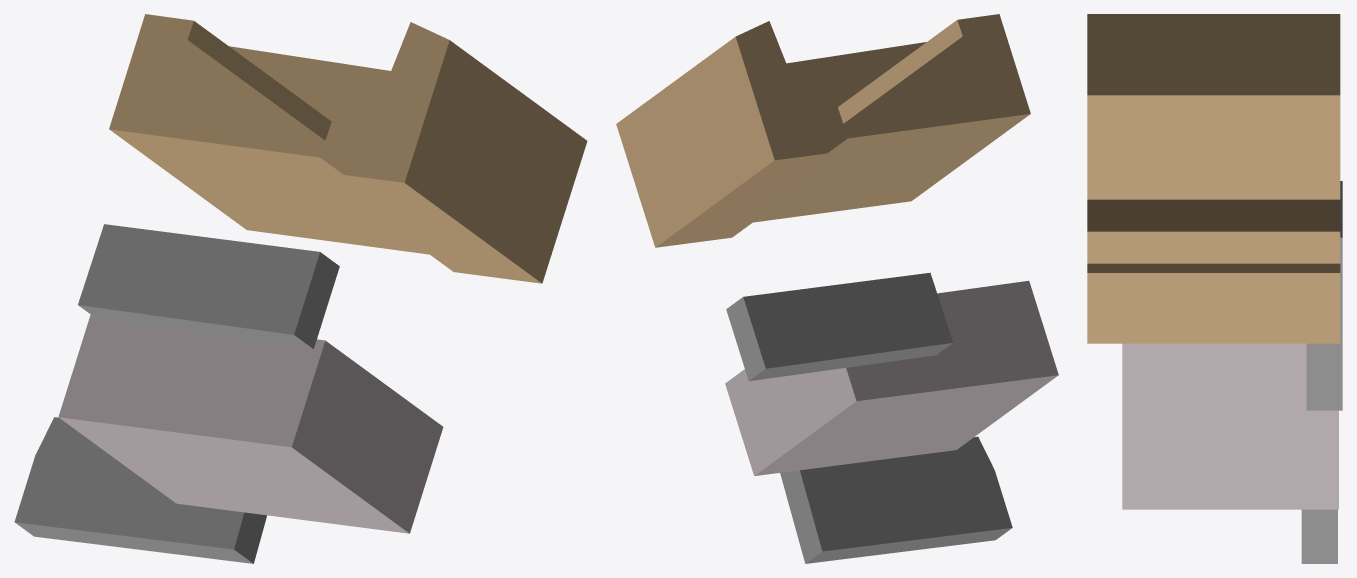
3 views of the same model, side by side, from view 1: azimuth 30°, elevation 25°; view 2: azimuth 150°, elevation 25°; view 3: azimuth 270°, elevation 25° (orthographic). The views are drawn at different scales.
Parts seen in each view (by area): view 1: 0_3_2_0_2_1_0; view 2: 0_3_2_0_2_1_0; view 3: 0_3_2_0_2_1_0.
Boxes of the visible parts, left/top/right/bottom form: 0_3_2_0_2_1_0: left=14, top=14, right=587, bottom=563; 0_3_2_0_2_1_0: left=616, top=14, right=1058, bottom=563; 0_3_2_0_2_1_0: left=1087, top=14, right=1342, bottom=563.
Size of the model in its own units: 38.42 by 46.75 by 21.2.
